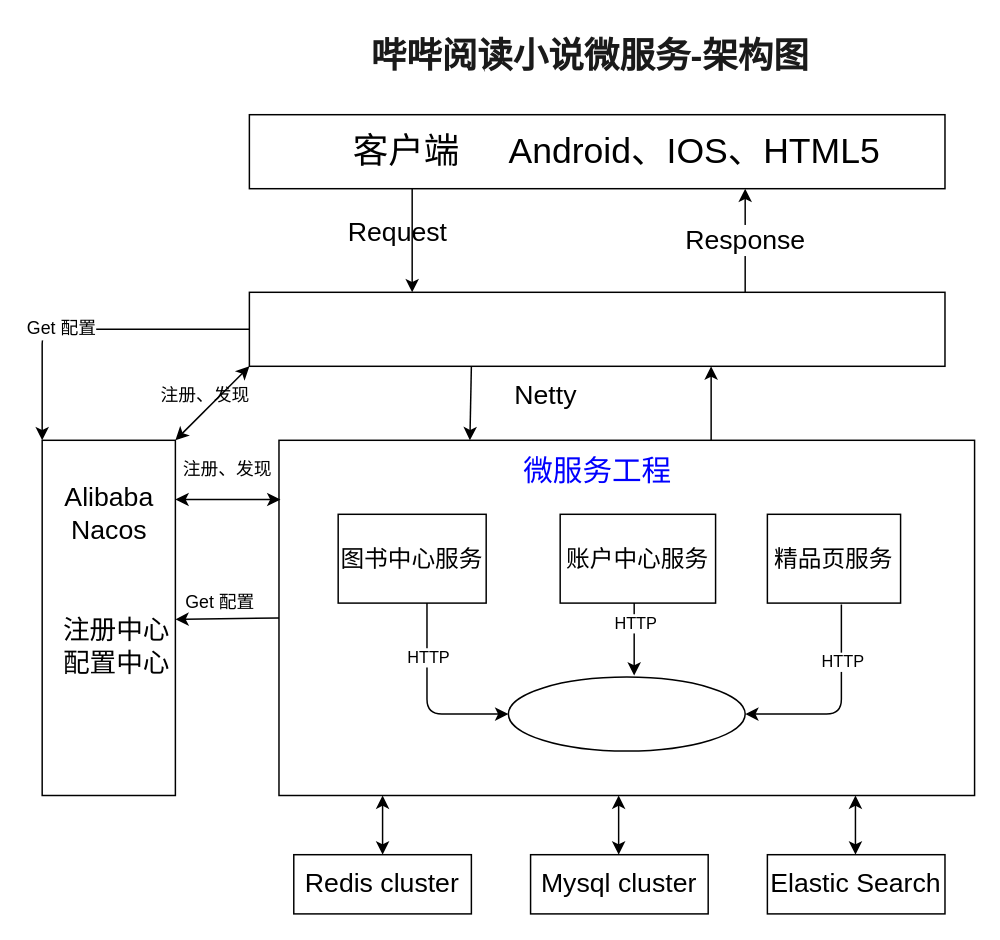
This 1000x940 diagram has some shape labels left out. Here are the shapes that lost their labels. From the top down, the centre of each, then its label:
At (596,328): "服务网关 Spring Cloud Gateway".
At (626,713): "Feign 客户端".
